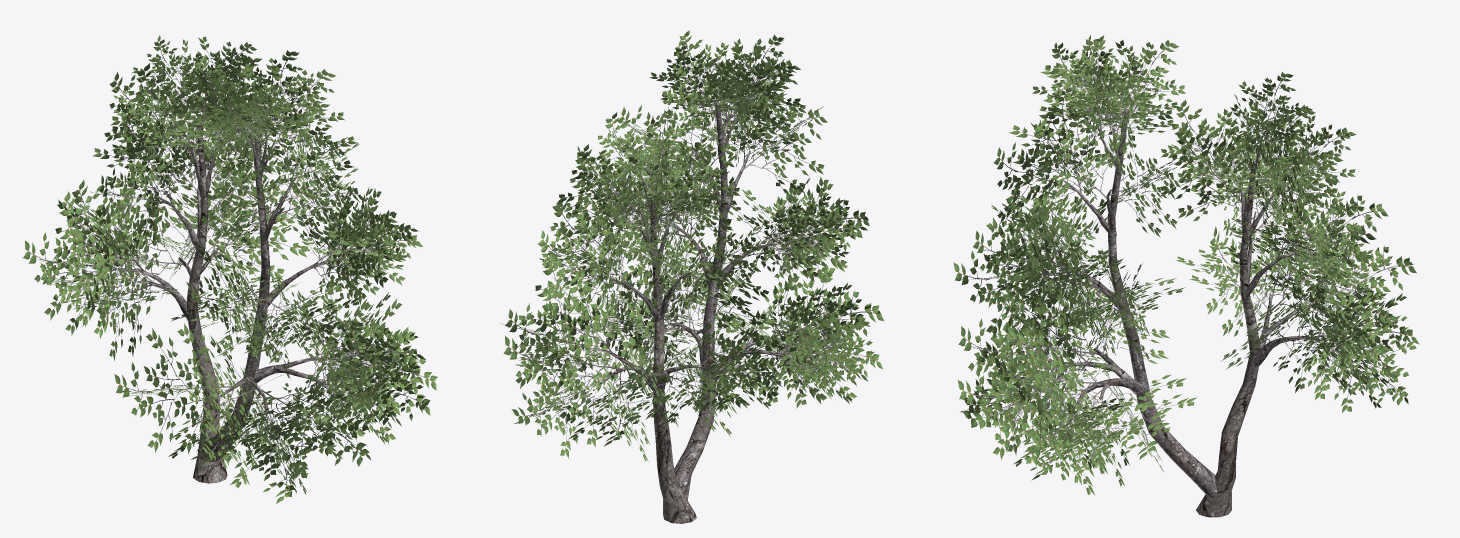
File: highDraco.glb
3 views of the same model, side by side, from view 1: azimuth 30°, elevation 25°; view 2: azimuth 150°, elevation 25°; view 3: azimuth 270°, elevation 25° (orthographic). The views are drawn at different scales.
Size of the model in its own units: 10.58 by 14.56 by 14.04.
2 materials, 2 textured.
